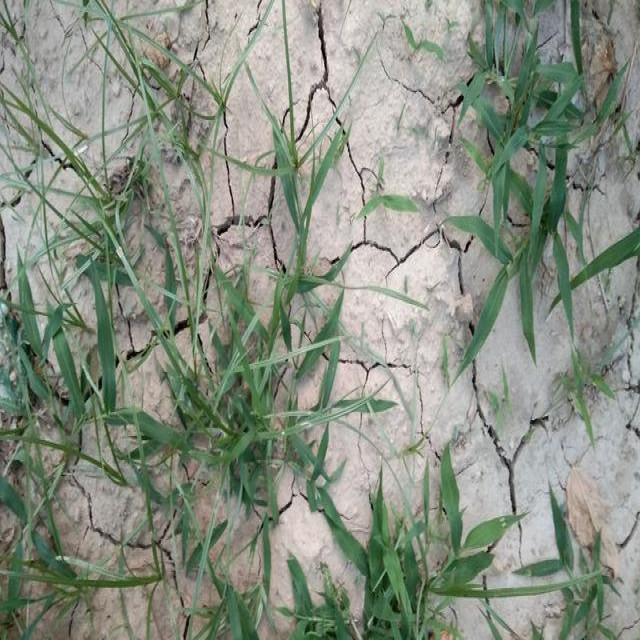weed: (99, 332, 352, 640), (453, 0, 639, 377), (2, 10, 151, 312), (300, 488, 531, 640), (15, 351, 121, 640), (163, 228, 251, 448), (270, 143, 342, 366), (539, 493, 637, 640)
